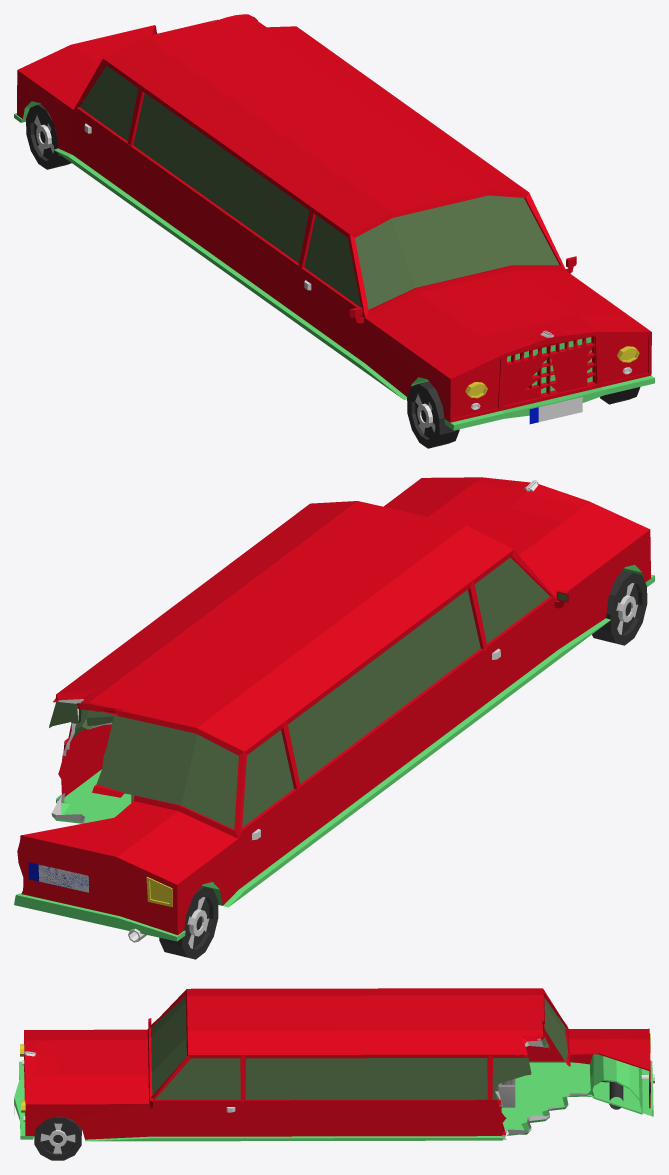
The model's file is limuzincrash-1.fbx.
The picture shows the model from 3 angles, top to bottom: view 1: azimuth 30°, elevation 25°; view 2: azimuth 150°, elevation 25°; view 3: azimuth 270°, elevation 25°; orthographic projection. The views are drawn at different scales.
Visible parts, largest first — view 1: body, on_teker, arka_teker; view 2: body, on_teker, arka_teker; view 3: body, on_teker, arka_teker.
Part boxes in pixels (left/top/right/bottom): body: left=14, top=14, right=654, bottom=430; on_teker: left=407, top=381, right=640, bottom=448; arka_teker: left=26, top=104, right=71, bottom=169; body: left=14, top=477, right=654, bottom=942; on_teker: left=592, top=570, right=647, bottom=645; arka_teker: left=159, top=886, right=218, bottom=959; body: left=14, top=988, right=654, bottom=1141; on_teker: left=34, top=1116, right=81, bottom=1160; arka_teker: left=601, top=1081, right=623, bottom=1109.
Bounding box in the file's own units: 417 × 270 × 1383.
